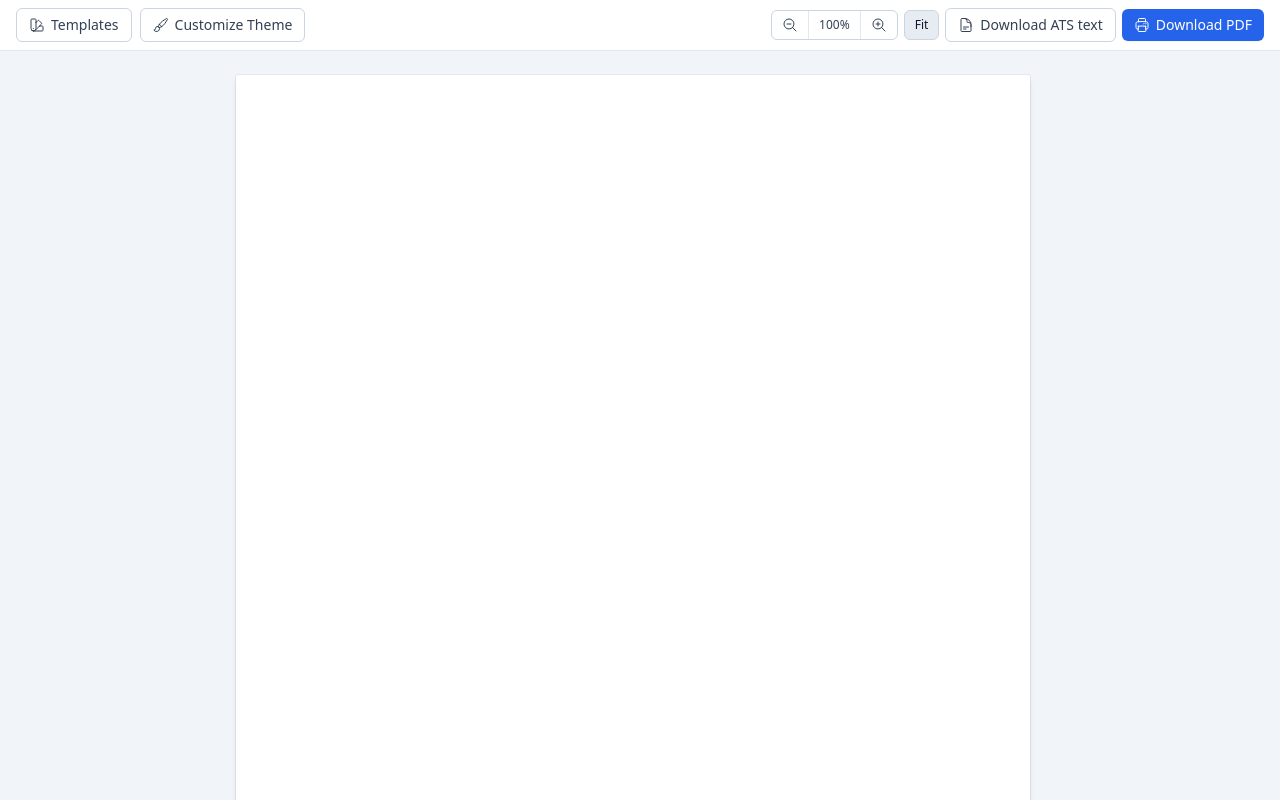
Test: Template Library, Shared Primitives, Design Controls, and Gallery › 3. Template Gallery Modal: Filtering, Selection, Sample Fallback & Accessibility › opens modal gallery, falls back to sampleResume when empty, filters by category, traps focus/Escape, and preserves user theme edits on select
// Open gallery
Step 1. Click the button with test id "open-template-gallery-btn" → (74, 25), box [16, 8, 132, 42]
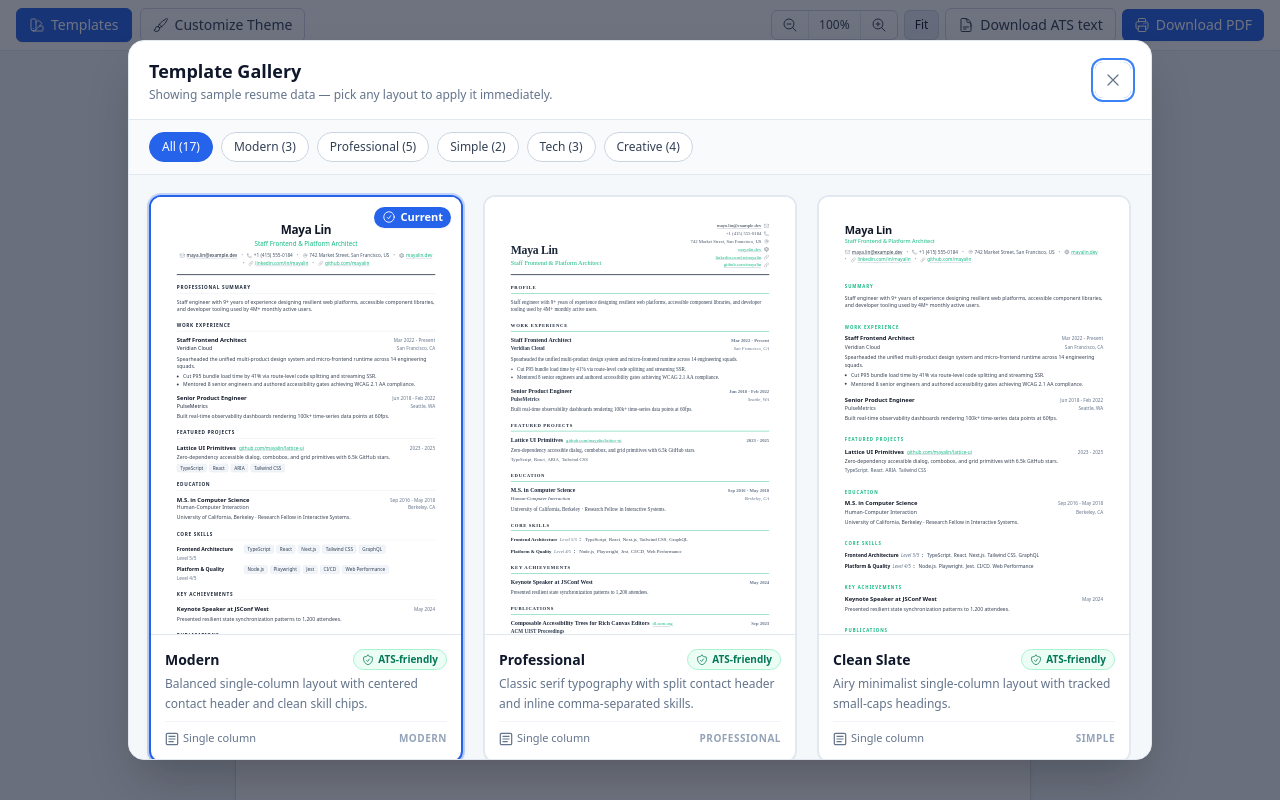
Now the dialog "Template Gallery" is shown
Now the text "Showing sample resume data" is shown, box [149, 86, 553, 103]
Now the element with test id "active-template-badge-modern" is shown, box [374, 207, 451, 228]
// Filter by 'tech' category
Step 2. Click the button with test id "gallery-category-tech" → (561, 147), box [526, 132, 596, 162]
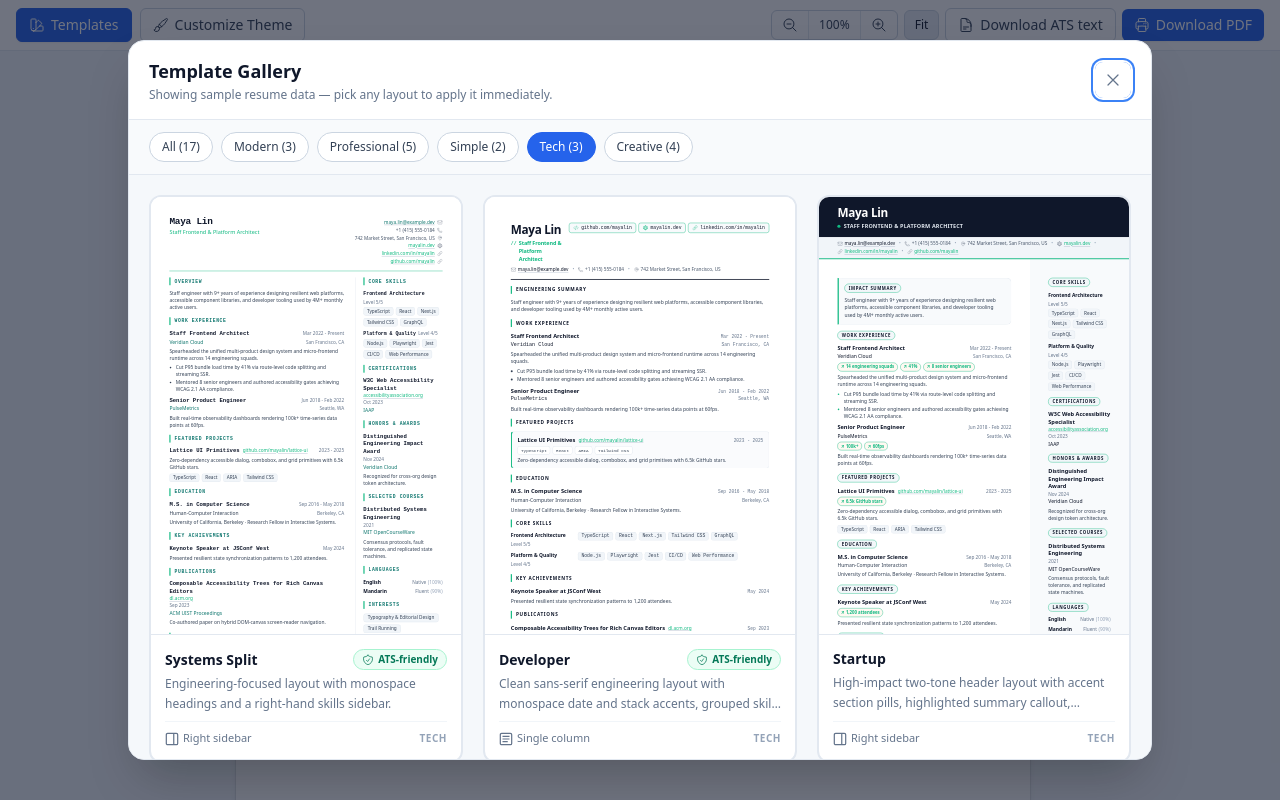
Now the button with test id "template-card-tech-split" is shown, box [149, 195, 463, 759]
Now the button with test id "template-card-professional" is gone
// Filter by 'professional' category
Step 3. Click the button with test id "gallery-category-professional" → (373, 147), box [317, 132, 429, 162]
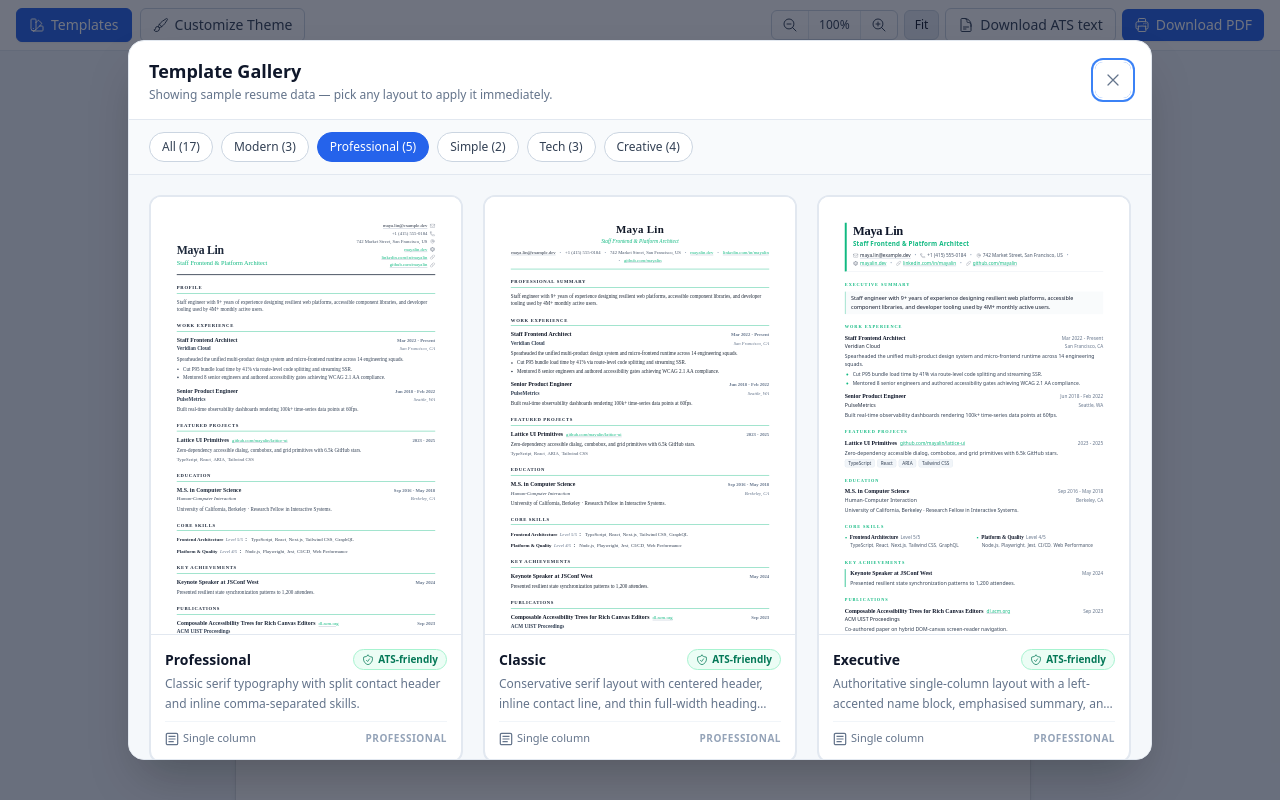
Now the button with test id "template-card-professional" is shown, box [149, 195, 463, 759]
Now the button with test id "template-card-tech-split" is gone
// Escape closes modal
Step 4. Press Escape
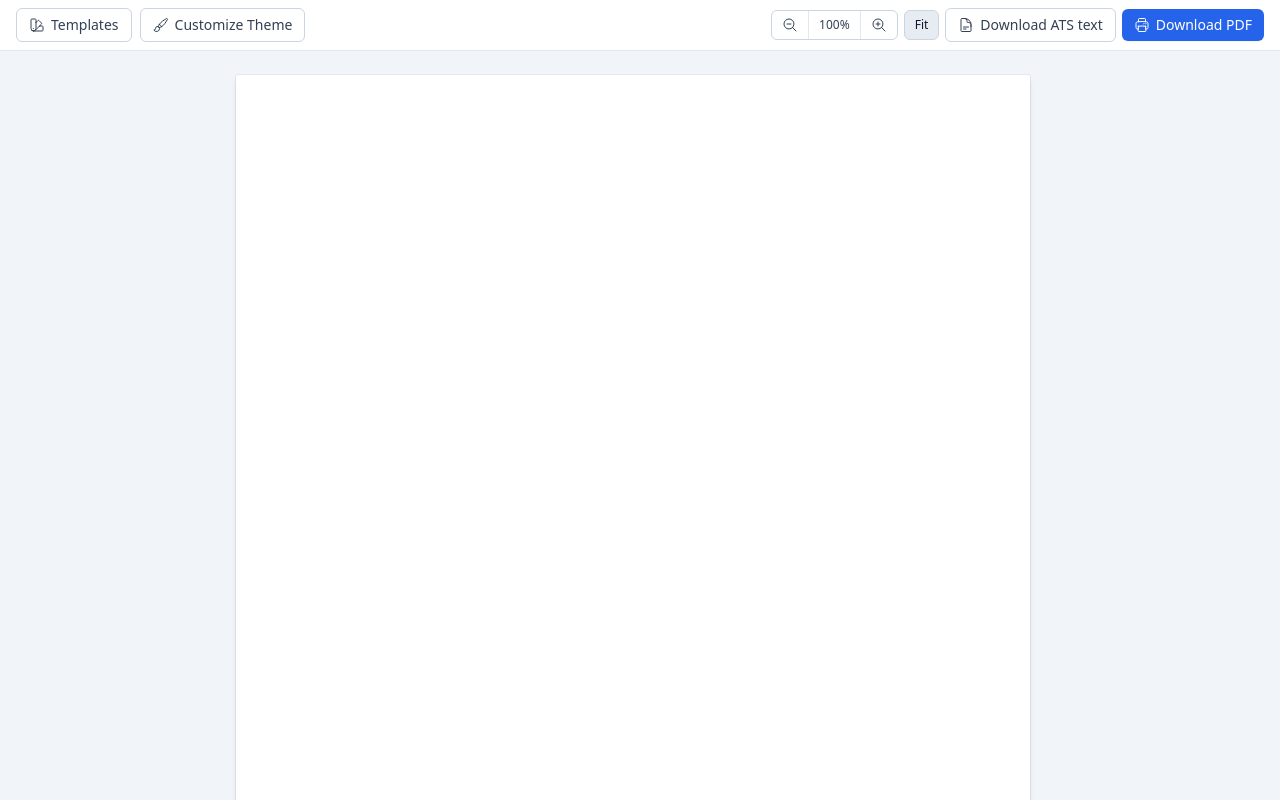
Now the dialog is gone
// Reopen and select Professional
Step 5. Click the button with test id "open-template-gallery-btn" → (74, 25), box [16, 8, 132, 42]
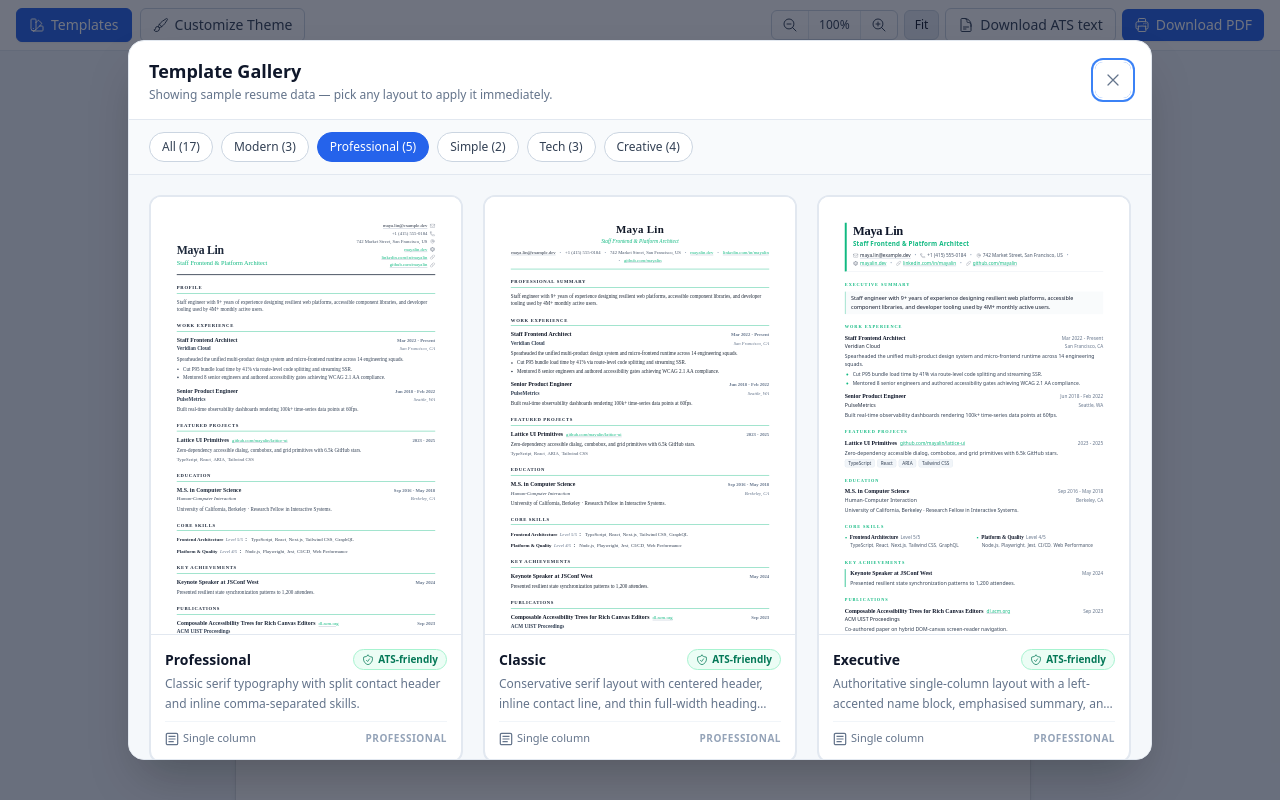
Step 6. Click the button with test id "template-card-professional" → (306, 479), box [149, 195, 463, 763]
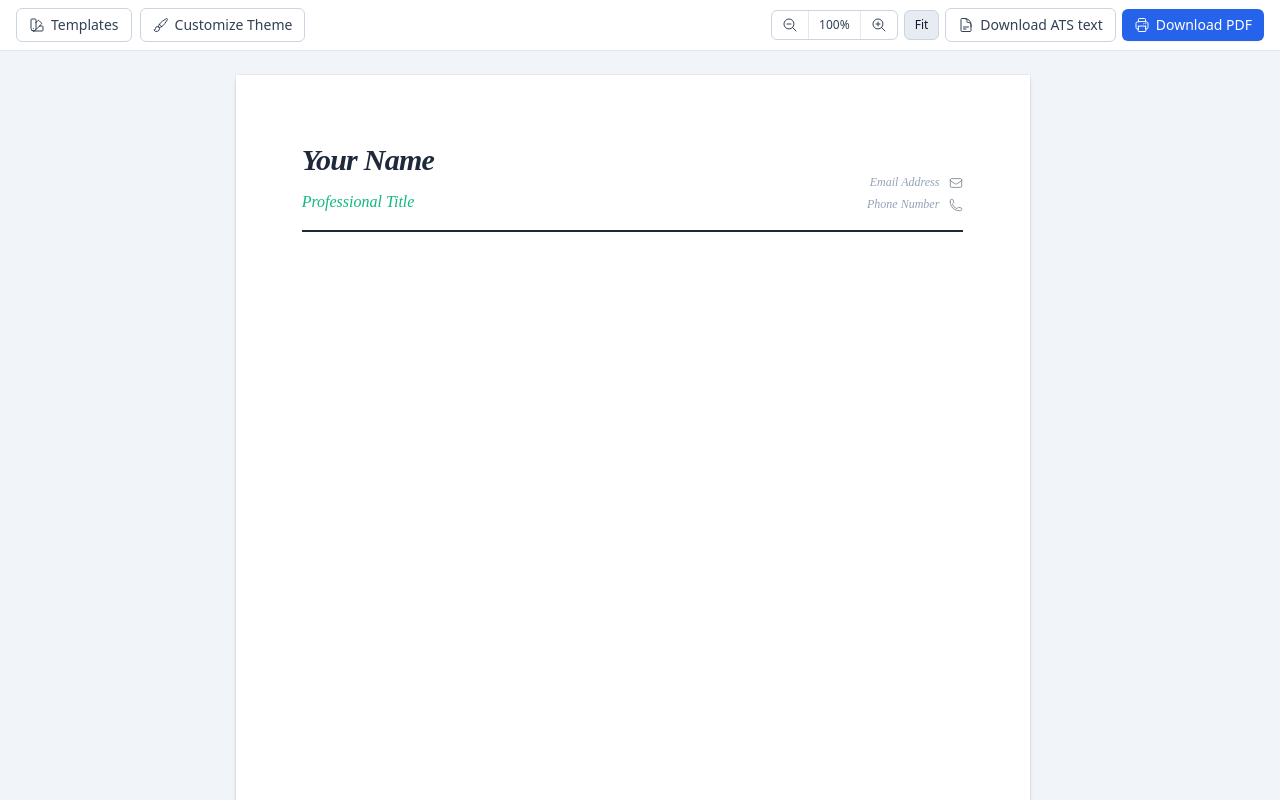
Now the dialog is gone
